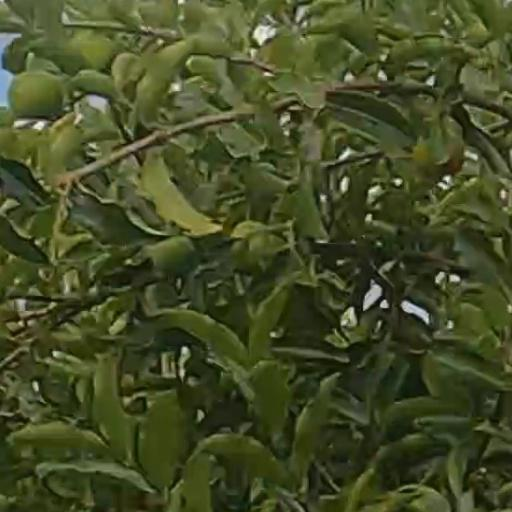acerola: (10, 70, 63, 118)
